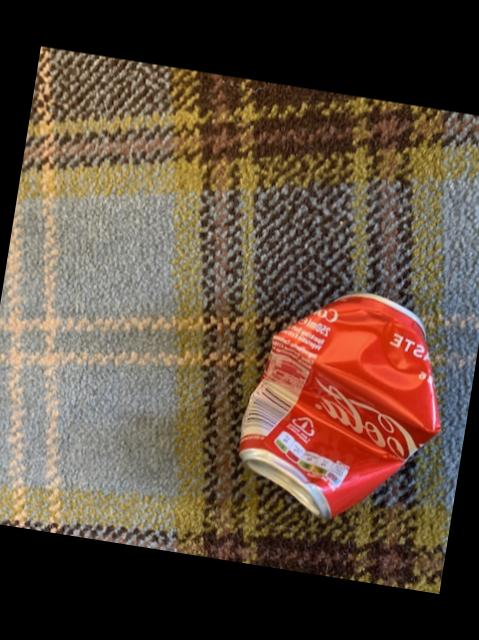metal: (240, 295, 440, 519)
